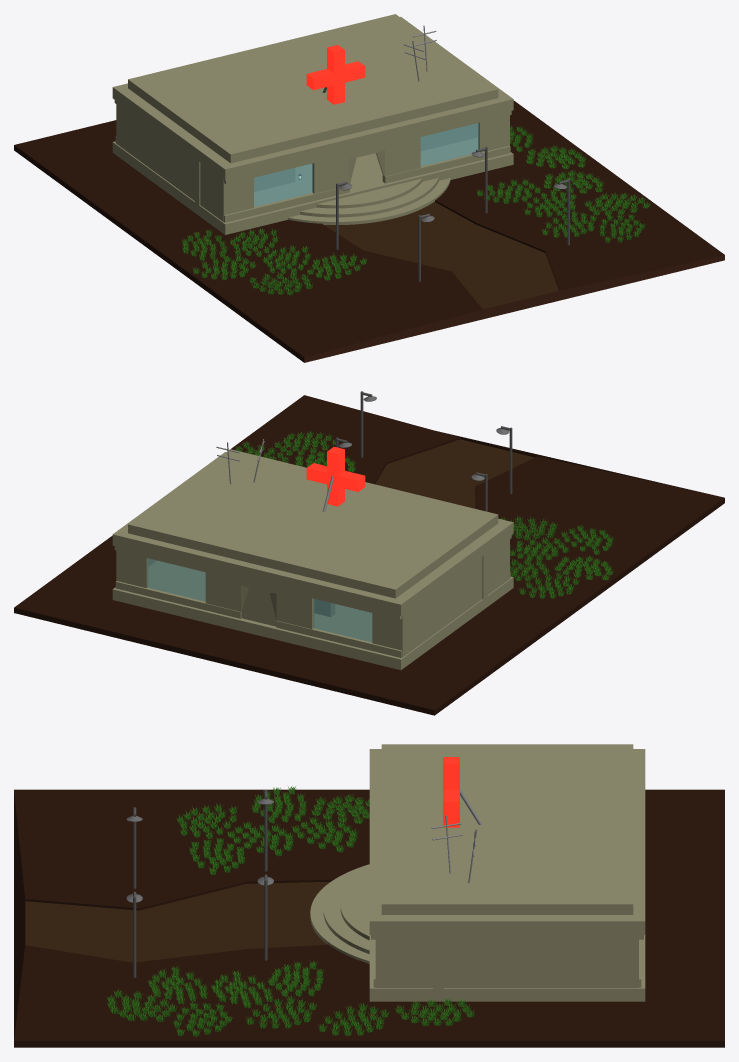
Rendered from 医院关卡.fbx.
3 renders of one model, top to bottom at view 1: azimuth 30°, elevation 25°; view 2: azimuth 150°, elevation 25°; view 3: azimuth 270°, elevation 25°, orthographic. The views are drawn at different scales.
Parts seen in each view (by area): view 1: 医院, 草, 路灯, 路灯.001; view 2: 医院, 草, 路灯.001; view 3: 医院, 草, 路灯, 路灯.001.
Part boxes in pixels (x1,y1,x2,y2): 医院: [14, 14, 724, 362]; 草: [182, 125, 650, 295]; 路灯: [336, 146, 487, 249]; 路灯.001: [418, 179, 569, 281]; 医院: [14, 395, 724, 715]; 草: [235, 430, 614, 598]; 路灯.001: [360, 391, 512, 494]; 医院: [14, 744, 724, 1047]; 草: [107, 786, 475, 1036]; 路灯: [257, 790, 273, 960]; 路灯.001: [126, 807, 142, 977].
Bounding box in the file's own units: 27957 × 8393 × 33430.
